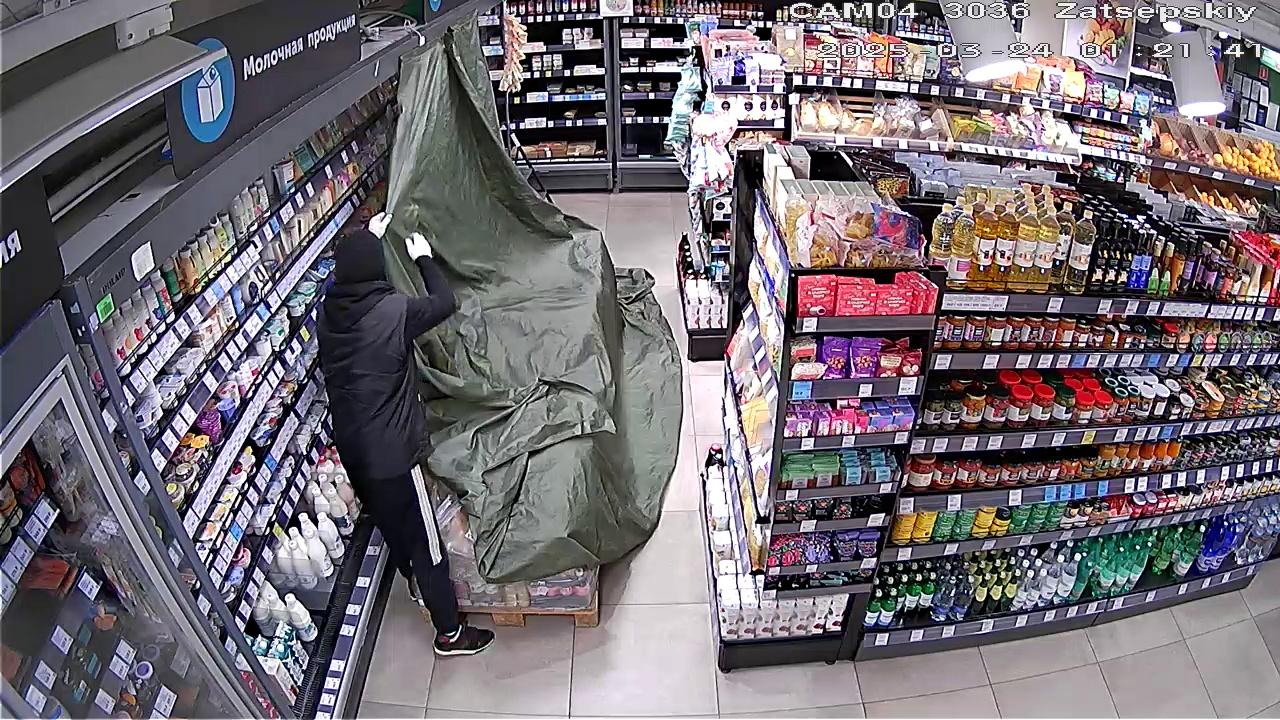Human: (307, 220, 492, 652)
dome: (393, 34, 679, 580)
